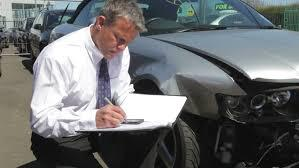bonnet-dent: (173, 21, 295, 81)
fender-dent: (135, 50, 205, 102)
